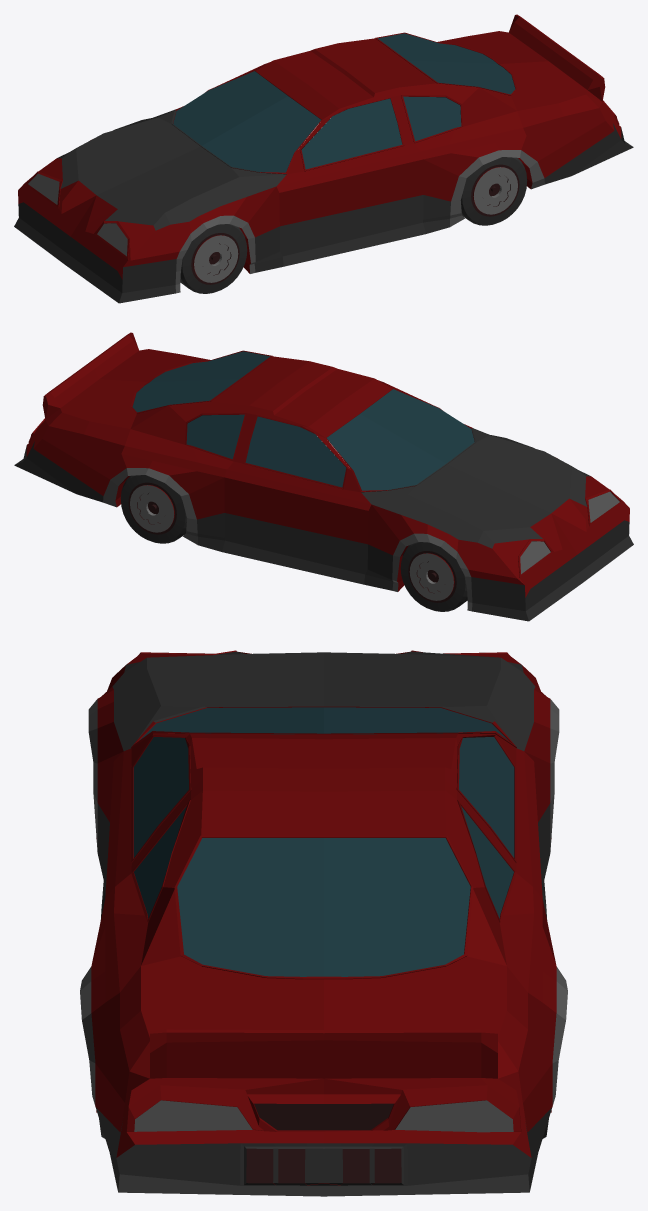
The model's file is naskcarmodel.fbx.
3 renders of one model, top to bottom at view 1: azimuth 30°, elevation 25°; view 2: azimuth 150°, elevation 25°; view 3: azimuth 270°, elevation 25°, orthographic. The views are drawn at different scales.
Parts seen in each view (by area): view 1: Circle; view 2: Circle; view 3: Circle.
Part boxes in pixels (box(x1,y1,x2,y2)): Circle: box(14, 14, 633, 303); Circle: box(14, 332, 633, 621); Circle: box(80, 650, 567, 1196).
Size of the model in its own units: 486 by 124 by 199.
